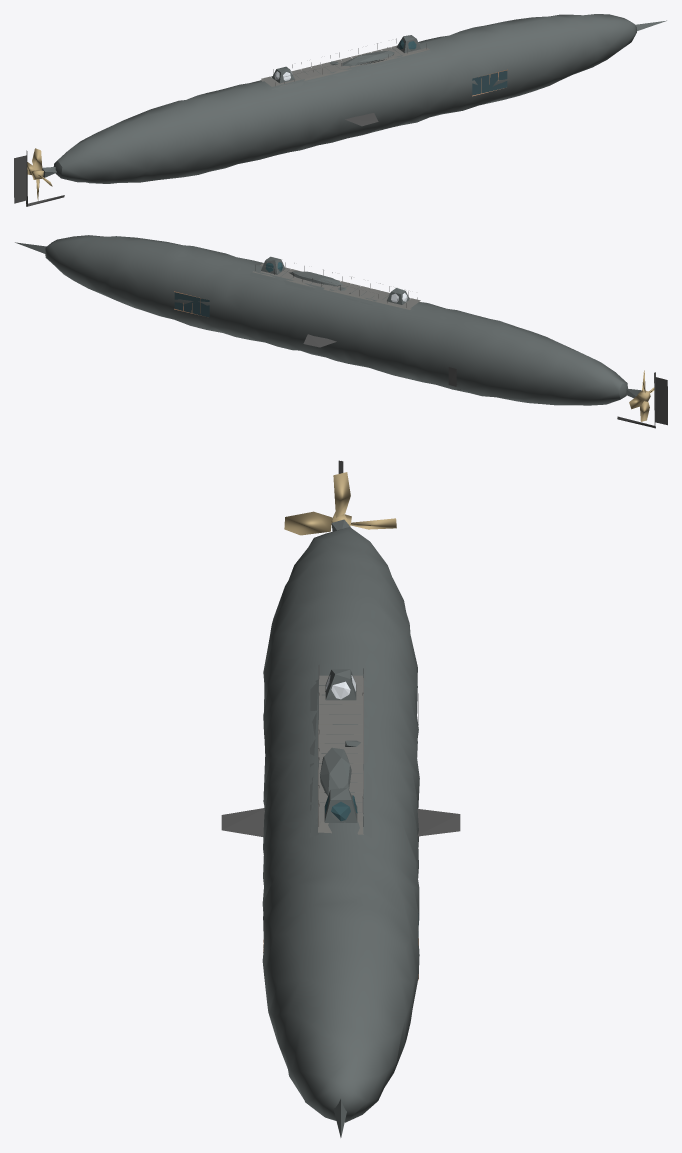
The model's file is Nautilus_Exterior_LOD2.fbx.
3 renders of one model, top to bottom at view 1: azimuth 30°, elevation 25°; view 2: azimuth 150°, elevation 25°; view 3: azimuth 270°, elevation 25°, orthographic. The views are drawn at different scales.
Visible parts, largest first — view 1: Hull_LOD2, Details_LOD2, Screw_LOD2; view 2: Hull_LOD2, Details_LOD2, Screw_LOD2; view 3: Hull_LOD2, Details_LOD2, Screw_LOD2.
Part boxes in pixels (x1=…): Hull_LOD2: x1=53, y1=14, x2=636, y2=183; Details_LOD2: x1=14, y1=20, x2=666, y2=206; Screw_LOD2: x1=27, y1=148, x2=52, y2=200; Hull_LOD2: x1=45, y1=235, x2=627, y2=405; Details_LOD2: x1=15, y1=242, x2=667, y2=428; Screw_LOD2: x1=629, y1=370, x2=654, y2=421; Hull_LOD2: x1=262, y1=527, x2=419, y2=1122; Details_LOD2: x1=221, y1=460, x2=460, y2=1137; Screw_LOD2: x1=284, y1=472, x2=396, y2=535.
Bounding box in the file's own units: 78.45 × 9.53 × 12.4.
